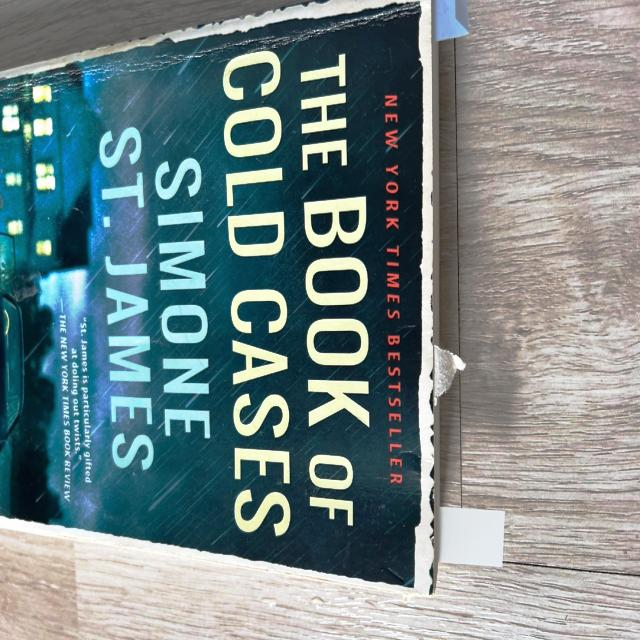Book: (0, 1, 503, 598)
